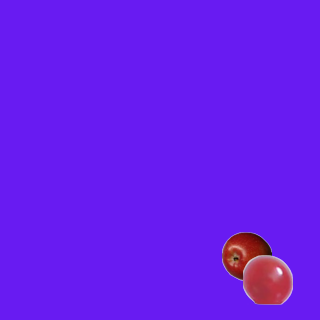Apple Braeburn: (221, 231, 271, 281)
Redcurrant: (242, 254, 292, 304)
